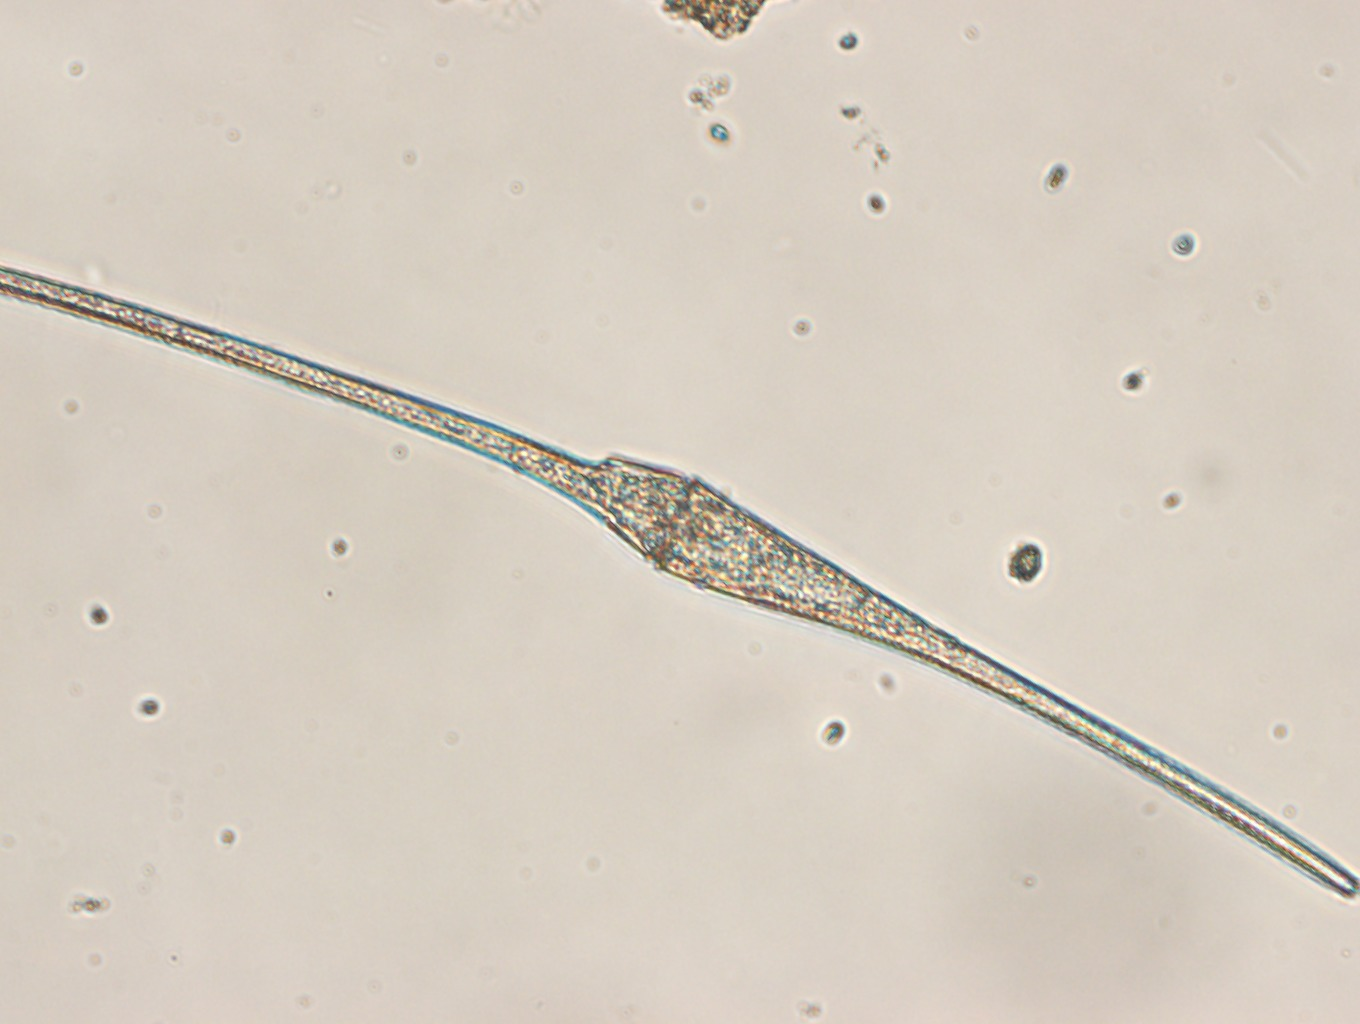ceratium fusus: (1, 268, 1360, 900)
